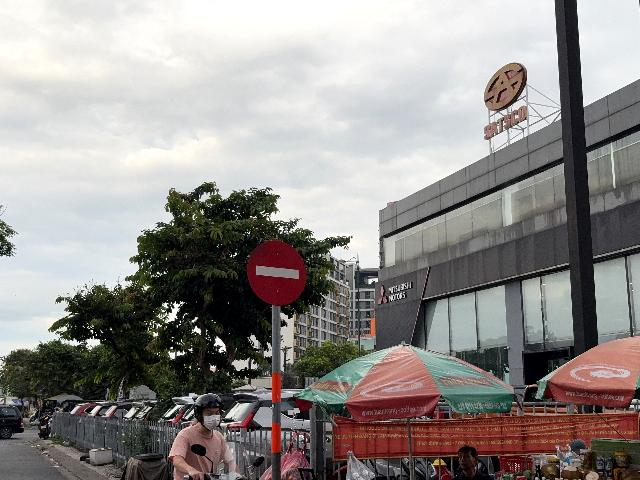cam-di-nguoc-chieu: (248, 240, 306, 305)
